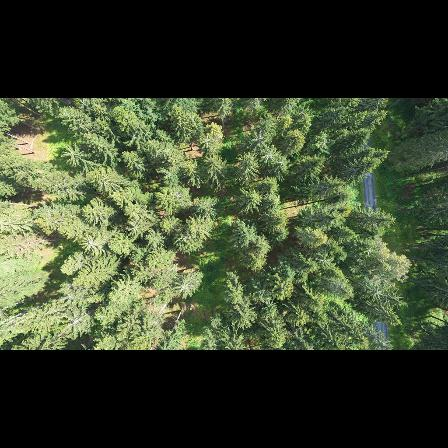Sick: (57, 310, 93, 340), (76, 232, 111, 256), (260, 143, 283, 168)
